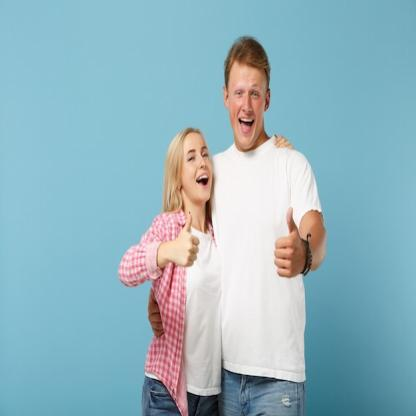thumb_up: (271, 204, 304, 281), (172, 208, 200, 270)
